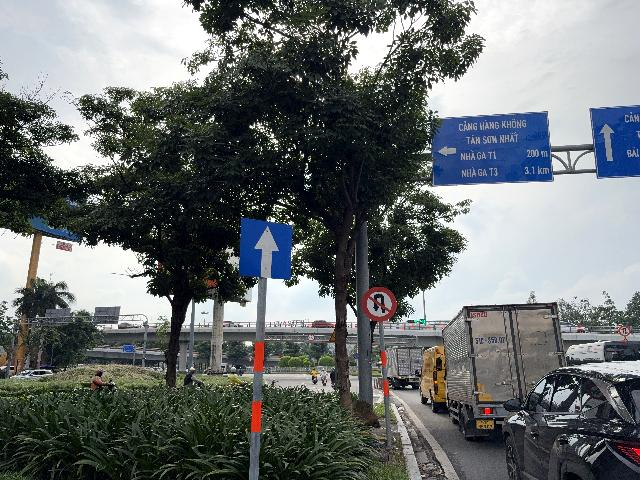cam-quay-dau-xe: (361, 286, 397, 322)
duong-mot-chieu: (238, 217, 293, 280)
